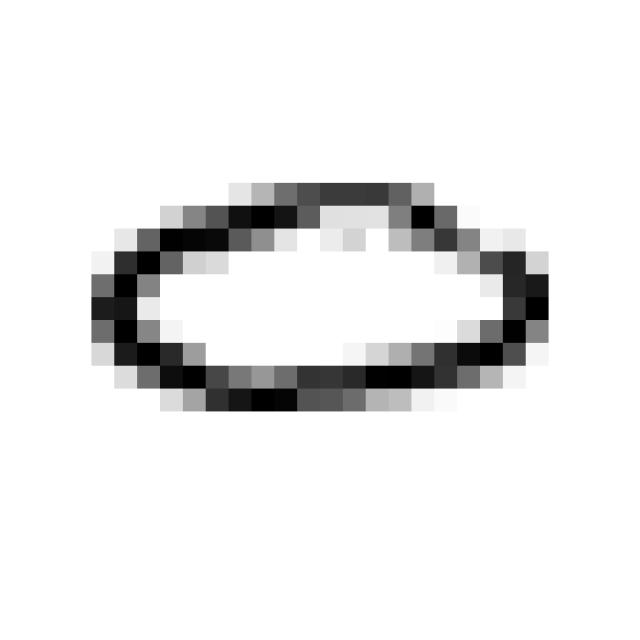5 -five-: (71, 151, 566, 434)
